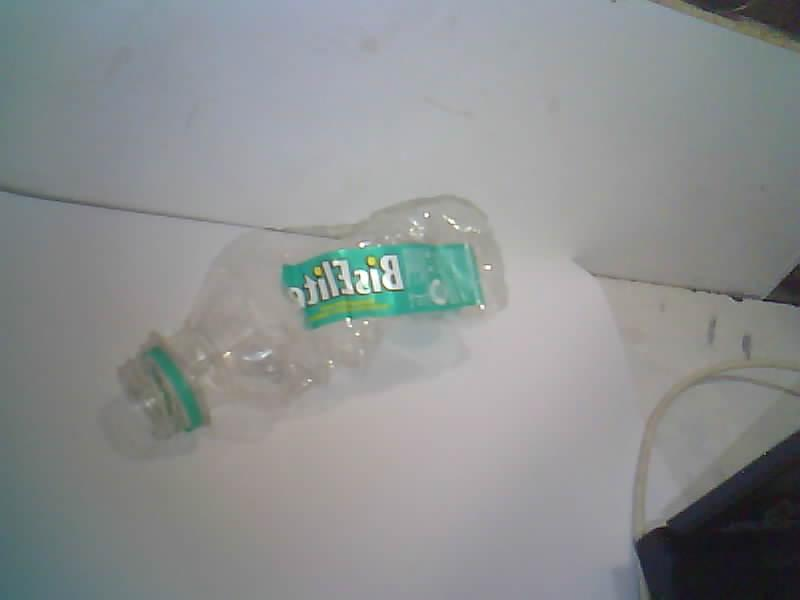non-biodegradable: (110, 196, 507, 449)
